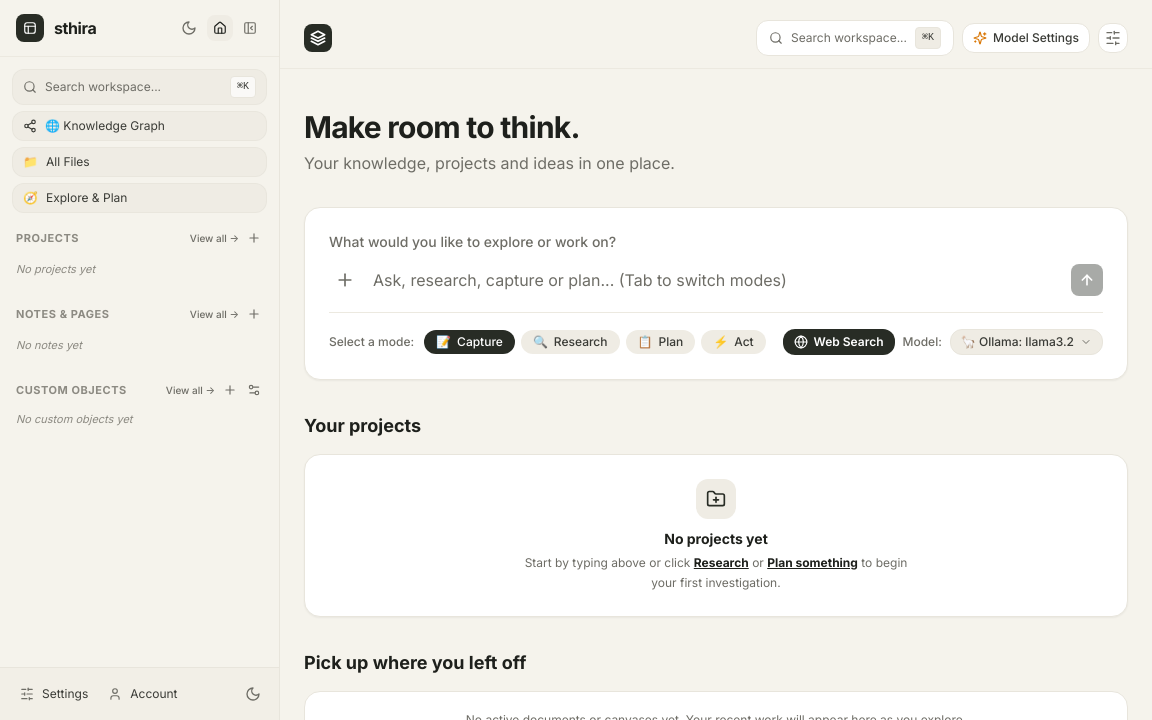
Test: Workspace Organization Refactor › App seamlessly switches to WorkspaceIndexView when clicking View all in LeftSidebar
// Click top nav "All Files"
Click the button with test id "nav-workspace-index".
click(140, 162)  # box [12, 147, 267, 177]
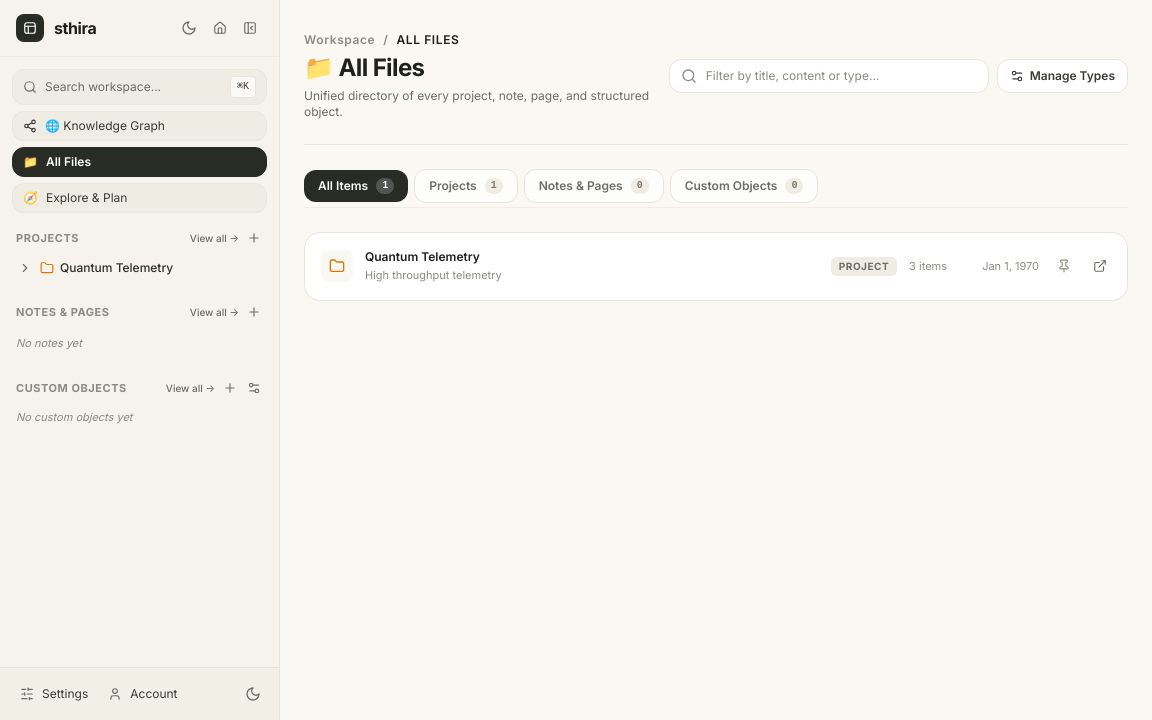
Result: the element with test id "workspace-index-view" is shown
Result: the button with test id "tab-projects" is shown at [414, 169, 518, 203]
